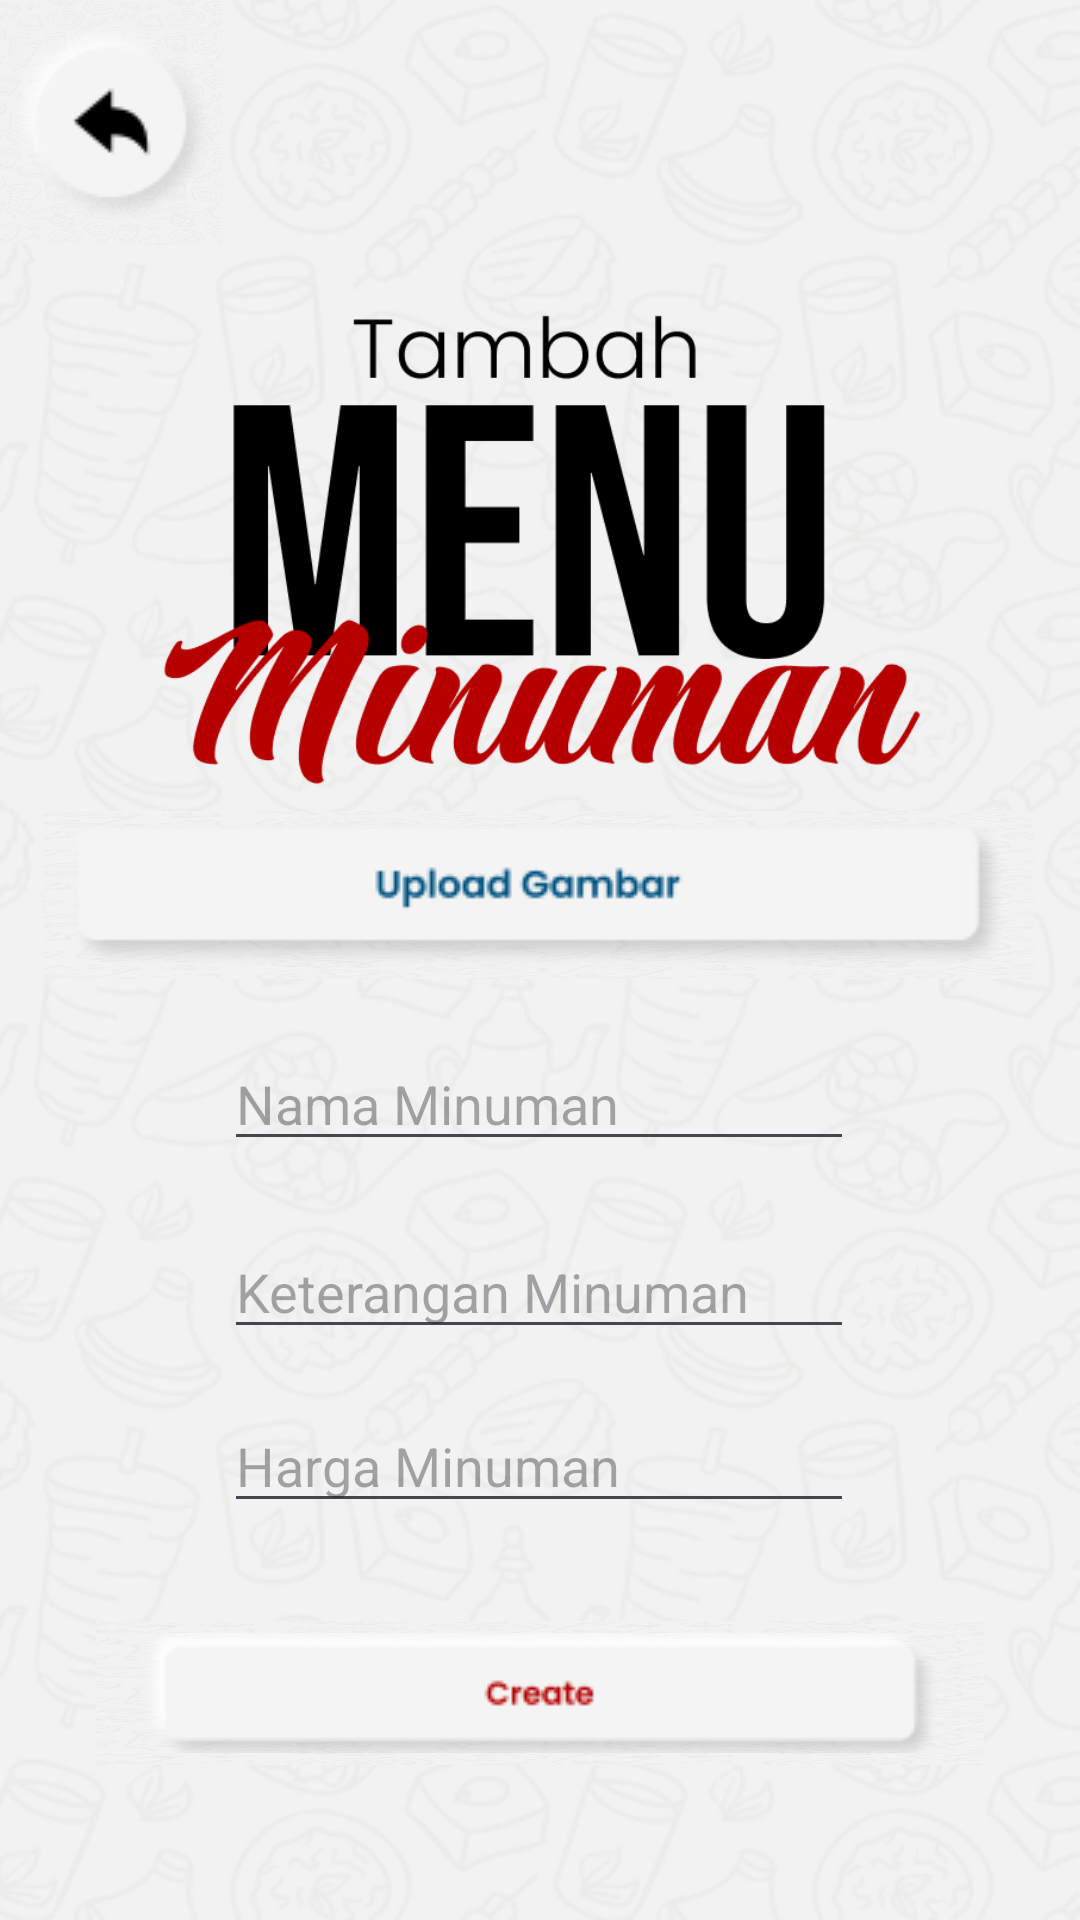

Locate icon controls on the screen. Image size 1080px x 1920px, boxes as (x1, y1, x2, y2).
buttonkembali: (74, 89, 189, 201)
